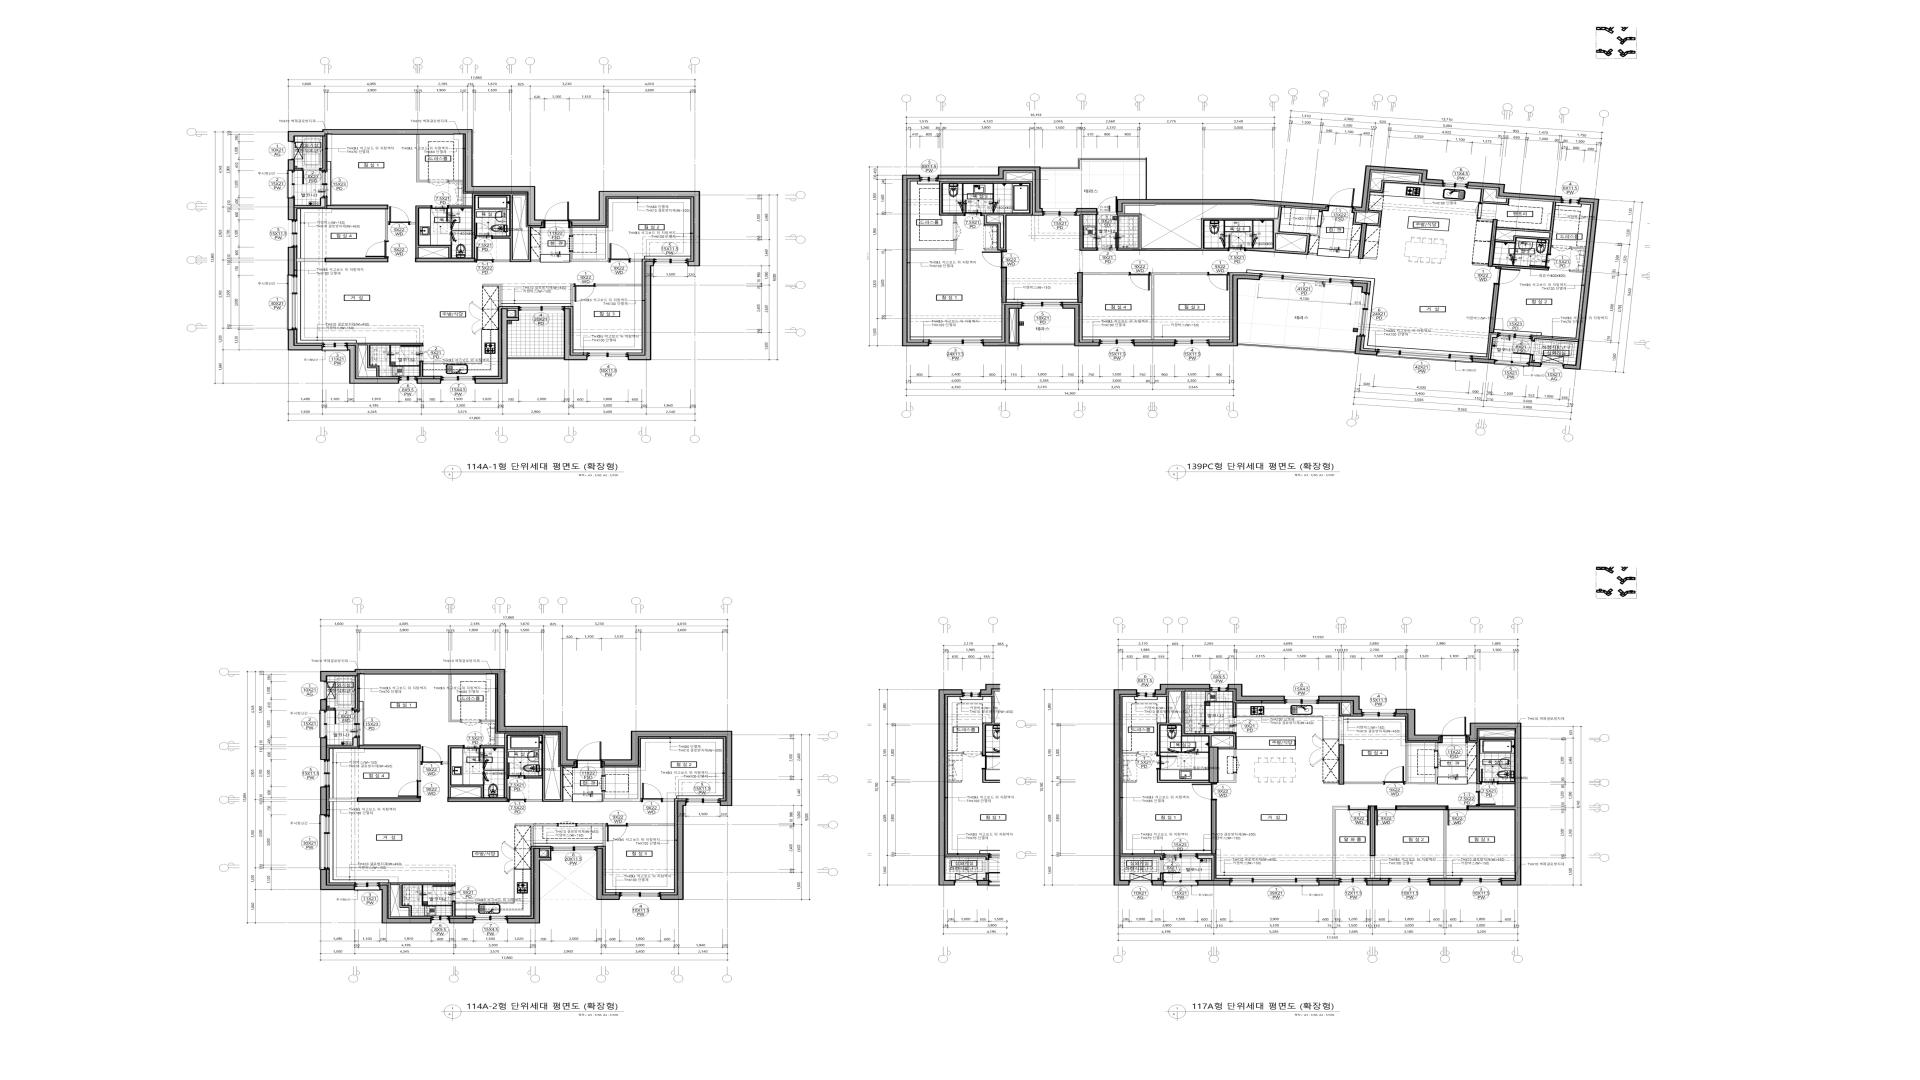door: (1328, 186, 1356, 214), (1441, 716, 1468, 744), (543, 203, 570, 228), (576, 741, 601, 767), (1494, 268, 1520, 286), (608, 243, 630, 262), (1447, 806, 1469, 825), (1375, 806, 1398, 825), (1192, 783, 1217, 800), (982, 251, 1007, 268), (1349, 806, 1370, 825), (1383, 766, 1406, 785), (605, 823, 628, 841), (1129, 272, 1151, 290), (400, 345, 423, 363), (574, 284, 595, 302), (388, 207, 409, 225), (421, 746, 442, 765), (641, 783, 662, 802), (1208, 272, 1229, 290), (433, 885, 455, 902), (398, 781, 421, 798), (365, 241, 389, 257), (1213, 717, 1237, 733), (1097, 232, 1117, 251), (1097, 196, 1117, 215), (1513, 340, 1535, 356), (1530, 252, 1552, 268), (463, 745, 481, 762), (475, 223, 493, 240), (302, 167, 320, 185), (964, 199, 982, 216), (1228, 235, 1246, 252), (1160, 858, 1180, 874), (1156, 756, 1178, 770), (508, 762, 525, 779), (475, 247, 493, 262), (508, 786, 526, 802), (1476, 791, 1495, 806), (335, 708, 352, 724), (1481, 769, 1498, 785), (431, 206, 448, 222), (1551, 245, 1572, 252), (953, 223, 961, 240), (429, 179, 448, 186), (1474, 203, 1482, 219), (460, 720, 481, 725), (558, 822, 576, 827)
wall: (320, 669, 576, 766), (287, 129, 543, 225), (1117, 207, 1320, 256), (570, 191, 700, 266), (601, 731, 732, 806), (1466, 723, 1522, 886), (939, 181, 1033, 251), (1563, 198, 1600, 371), (448, 194, 539, 262), (481, 733, 572, 802), (1156, 691, 1237, 757), (938, 166, 1043, 212), (902, 175, 930, 347), (1113, 690, 1137, 886), (1040, 158, 1147, 199), (1353, 166, 1443, 212), (1151, 273, 1208, 340), (1209, 274, 1261, 347), (506, 848, 551, 923), (475, 309, 520, 384), (1495, 202, 1556, 253), (1117, 199, 1328, 212), (659, 800, 686, 901), (628, 261, 654, 360), (409, 206, 452, 257), (442, 745, 484, 798), (359, 343, 423, 377), (390, 882, 455, 916), (1017, 309, 1075, 345), (347, 345, 400, 384), (380, 885, 431, 923), (1468, 182, 1563, 200), (982, 305, 1022, 347), (1063, 305, 1100, 347), (1395, 709, 1441, 741), (1406, 742, 1437, 785), (570, 228, 608, 262), (603, 767, 641, 802), (596, 848, 620, 901), (1238, 343, 1356, 353), (564, 309, 588, 360), (1333, 806, 1349, 878), (514, 824, 558, 847), (1228, 684, 1284, 702), (1370, 179, 1419, 196), (1319, 696, 1362, 715), (320, 869, 355, 890), (287, 330, 322, 351), (1156, 770, 1208, 783), (576, 824, 605, 847), (1080, 214, 1097, 251), (1155, 684, 1211, 695), (448, 674, 460, 723), (1468, 742, 1480, 791), (417, 135, 429, 182), (1338, 703, 1352, 744), (1480, 189, 1510, 206), (1489, 285, 1499, 334), (1487, 219, 1498, 266), (910, 240, 956, 251), (1356, 336, 1378, 356), (1197, 855, 1215, 880), (483, 284, 501, 306), (1208, 746, 1218, 783), (1493, 264, 1549, 270), (1211, 800, 1217, 855), (1358, 223, 1367, 258), (326, 204, 388, 210), (327, 737, 357, 748), (415, 257, 475, 262), (1532, 336, 1578, 343), (294, 198, 324, 207), (1370, 806, 1375, 856), (1487, 334, 1498, 359), (357, 798, 421, 802), (324, 258, 388, 262), (1367, 210, 1382, 227), (359, 745, 421, 749), (447, 798, 508, 802), (508, 356, 563, 360), (1197, 880, 1230, 886), (1338, 744, 1344, 785), (1134, 342, 1175, 347), (1429, 880, 1461, 886), (1218, 773, 1237, 783), (1398, 806, 1447, 810), (320, 786, 327, 815), (287, 247, 294, 276), (1001, 268, 1007, 297), (352, 676, 357, 711), (1444, 811, 1447, 878), (320, 137, 326, 170), (1121, 855, 1163, 858), (1353, 282, 1369, 293), (1077, 272, 1083, 303), (1366, 880, 1390, 886), (1472, 357, 1495, 364), (320, 737, 327, 760), (287, 198, 294, 220), (1319, 880, 1340, 886), (448, 918, 473, 923), (417, 378, 442, 384), (595, 284, 642, 286), (1353, 212, 1362, 225), (1083, 273, 1129, 276), (1370, 856, 1375, 878), (328, 798, 357, 802), (297, 258, 324, 262), (1345, 782, 1383, 785), (508, 309, 518, 318), (541, 848, 551, 857), (1480, 737, 1515, 740), (1151, 880, 1164, 886), (418, 749, 421, 781), (385, 210, 388, 241), (1076, 208, 1097, 212), (320, 699, 327, 711), (287, 160, 294, 171), (451, 902, 456, 916), (1528, 361, 1542, 367), (628, 824, 674, 825), (571, 284, 574, 306), (419, 363, 423, 377), (1233, 703, 1237, 717), (630, 258, 642, 262), (1122, 752, 1138, 754), (1499, 782, 1515, 785), (1477, 219, 1493, 222), (481, 720, 496, 723), (1122, 781, 1137, 783), (1324, 782, 1338, 785), (1473, 264, 1487, 266), (1569, 270, 1584, 273), (1572, 247, 1586, 249), (1364, 257, 1377, 260), (496, 733, 498, 745), (662, 799, 674, 802), (1530, 355, 1534, 363), (295, 167, 302, 171), (1349, 256, 1358, 258), (603, 767, 605, 775), (1435, 742, 1437, 750), (570, 228, 572, 236), (448, 181, 463, 182), (327, 708, 334, 711), (953, 216, 956, 223), (1160, 874, 1163, 880)
window: (1377, 349, 1473, 363), (1261, 273, 1353, 286), (1230, 878, 1319, 886), (286, 276, 298, 330), (1357, 293, 1370, 336), (319, 815, 330, 869), (518, 306, 564, 314), (930, 339, 982, 345), (587, 352, 628, 360), (620, 891, 659, 899), (551, 847, 596, 853), (1284, 696, 1319, 704), (686, 798, 720, 806), (1498, 332, 1532, 340), (1022, 302, 1063, 309), (442, 376, 475, 384), (1362, 709, 1395, 717), (1461, 878, 1501, 885), (1390, 878, 1429, 885), (473, 915, 506, 923), (654, 258, 687, 266), (1043, 208, 1076, 216), (286, 171, 295, 198), (320, 760, 330, 786), (289, 220, 298, 247), (355, 882, 380, 891), (1175, 339, 1209, 345), (1100, 339, 1134, 345), (1164, 880, 1197, 886), (1495, 360, 1528, 367), (352, 711, 360, 737), (319, 711, 327, 737), (1443, 181, 1468, 189), (323, 343, 347, 351), (1163, 853, 1197, 858), (1340, 878, 1366, 885), (320, 171, 327, 198), (1137, 690, 1155, 698), (1561, 196, 1580, 204), (400, 376, 417, 384), (1211, 684, 1228, 692), (431, 915, 448, 923), (1542, 363, 1564, 368), (320, 682, 327, 699), (920, 175, 938, 182), (1130, 880, 1151, 885), (289, 142, 294, 160)
